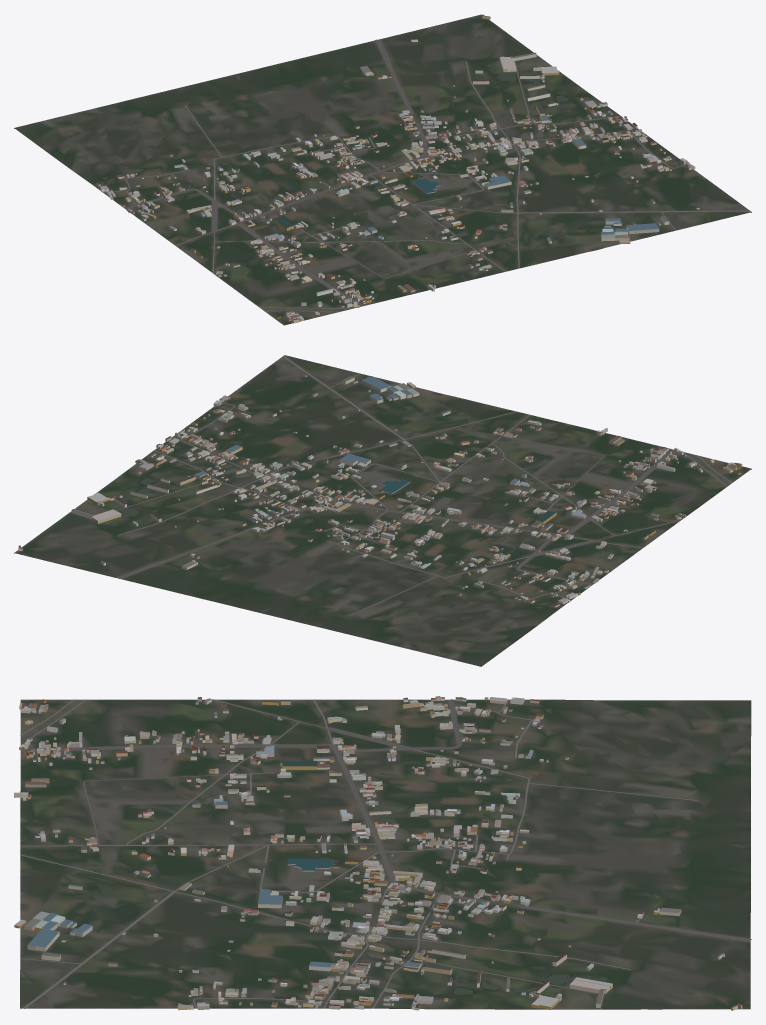
The picture shows the model from 3 angles, top to bottom: view 1: azimuth 30°, elevation 25°; view 2: azimuth 150°, elevation 25°; view 3: azimuth 270°, elevation 25°; orthographic projection. The views are drawn at different scales.
Visible parts, largest first — view 1: ground, buildings, roads; view 2: ground, buildings, roads; view 3: ground, buildings, roads, water.
Part boxes in pixels (box(x1,y1,x2,y2)): ground: box(14, 14, 751, 325); buildings: box(97, 14, 699, 323); roads: box(103, 39, 750, 312); ground: box(14, 355, 751, 666); buildings: box(18, 374, 742, 607); roads: box(116, 355, 731, 615); ground: box(20, 699, 751, 1009); buildings: box(14, 696, 742, 1010); roads: box(20, 699, 751, 1008); water: box(20, 903, 607, 994).
Size of the model in its own units: 1408 by 16.95 by 1415.
